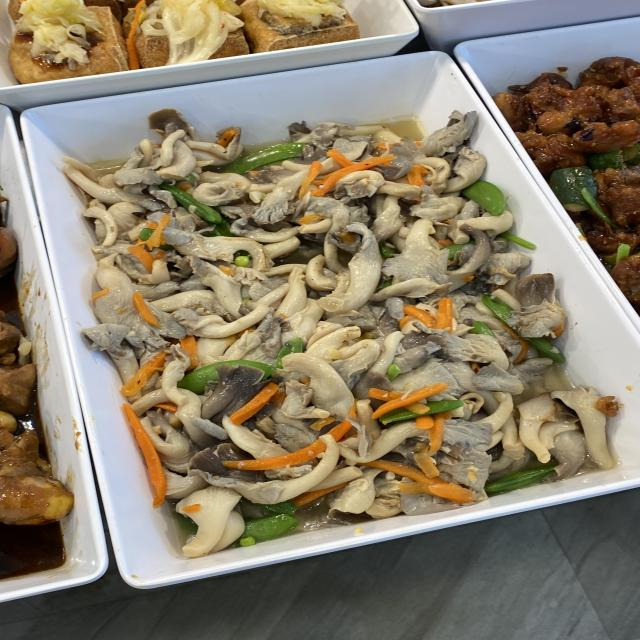Fushan-lettuceStir-fried Sweet Beans with Oyster Mushrooms: (158, 186, 506, 483)
